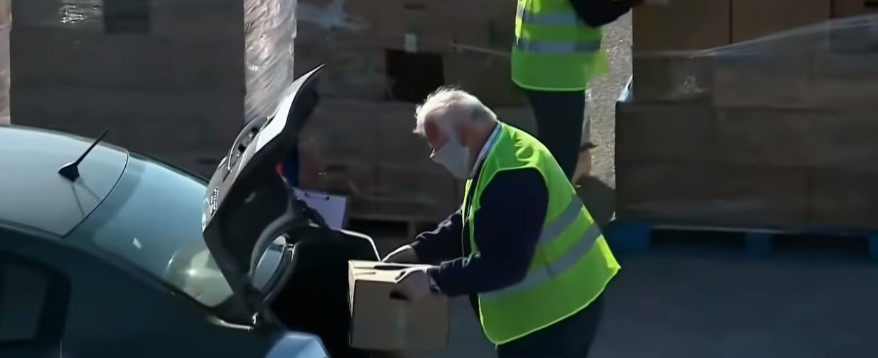face_with_mask: (416, 91, 490, 181)
